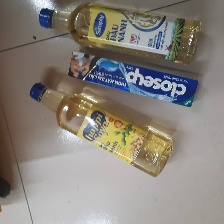CloseUp Tuyet: (67, 51, 198, 109)
Happy Soya: (28, 82, 173, 179)
Simply: (39, 2, 202, 65)
